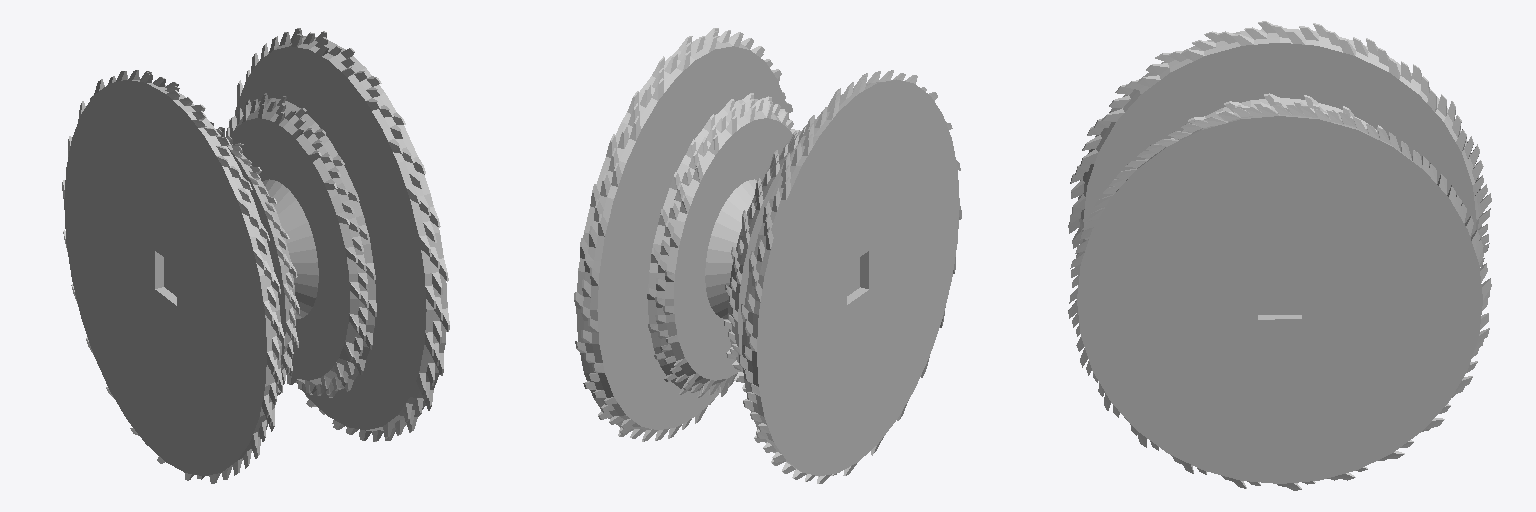
File: Med Digger.obj
The picture shows the model from 3 angles: view 1: azimuth 30°, elevation 25°; view 2: azimuth 150°, elevation 25°; view 3: azimuth 270°, elevation 25°; orthographic projection.
Parts seen in each view (by area): view 1: Cylinder.001; view 2: Cylinder.001; view 3: Cylinder.001.
Part boxes in pixels (x1,y1,x2,y2): Cylinder.001: (62,28,449,483); Cylinder.001: (574,28,961,483); Cylinder.001: (1068,21,1491,490).
Size of the model in its own units: 2 by 4.06 by 4.06.